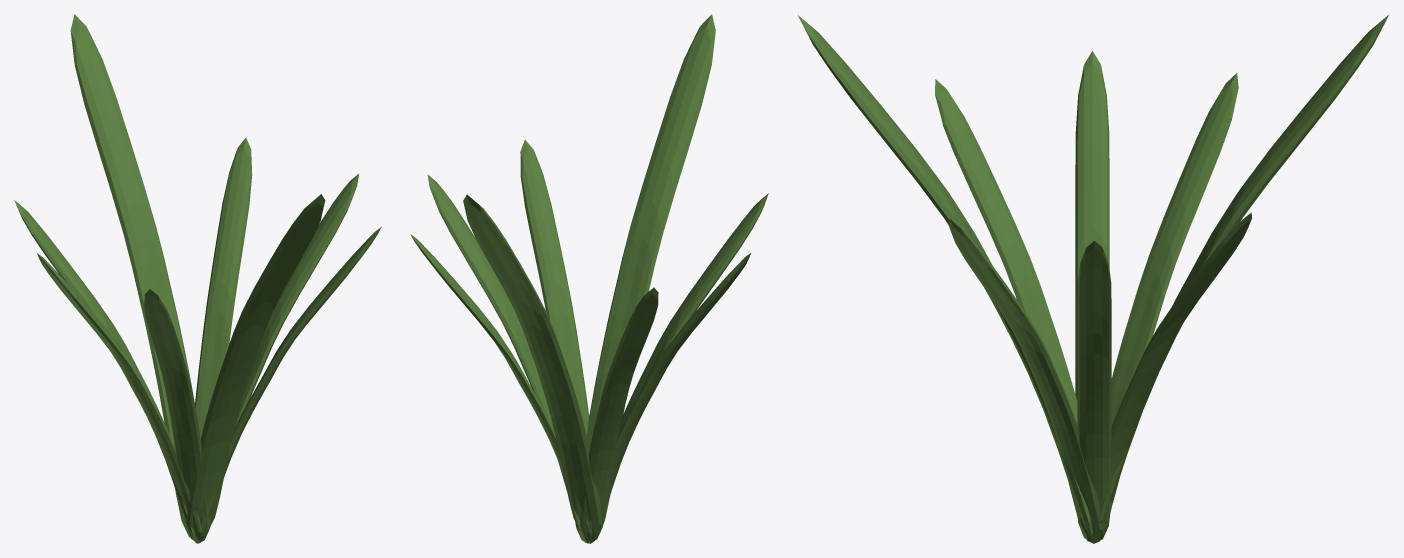
Rendered from Small plant .fbx.
3 renders of one model, left to right at view 1: azimuth 30°, elevation 25°; view 2: azimuth 150°, elevation 25°; view 3: azimuth 270°, elevation 25°, orthographic. The views are drawn at different scales.
Visible parts, largest first — view 1: Cube.006; view 2: Cube.006; view 3: Cube.006.
Boxes of the visible parts, x1=… form: Cube.006: x1=14, y1=14, x2=381, y2=543; Cube.006: x1=410, y1=14, x2=768, y2=543; Cube.006: x1=798, y1=15, x2=1388, y2=543.
Bounding box in the file's own units: 42.01 × 54.59 × 55.37.
